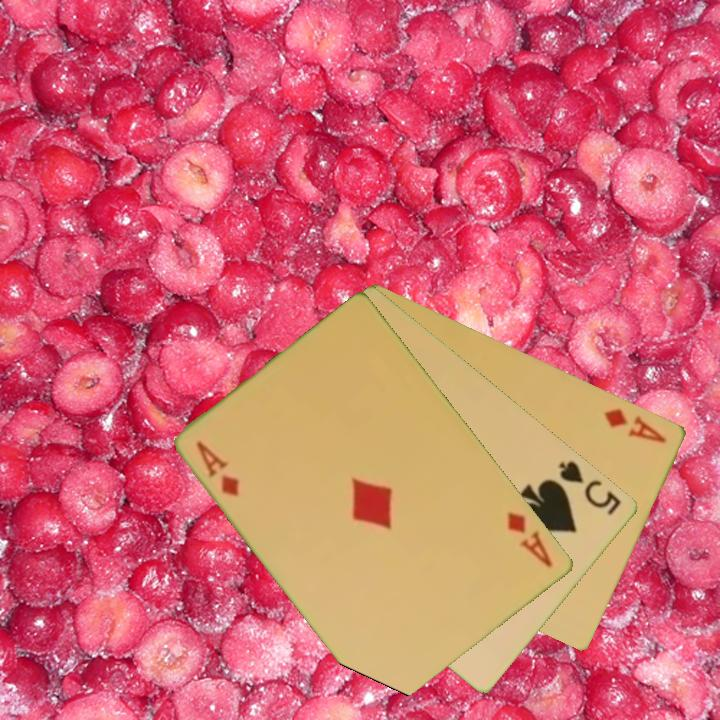5s: (555, 457, 625, 519)
Ad: (504, 508, 556, 571), (193, 437, 243, 500), (600, 404, 670, 446)
